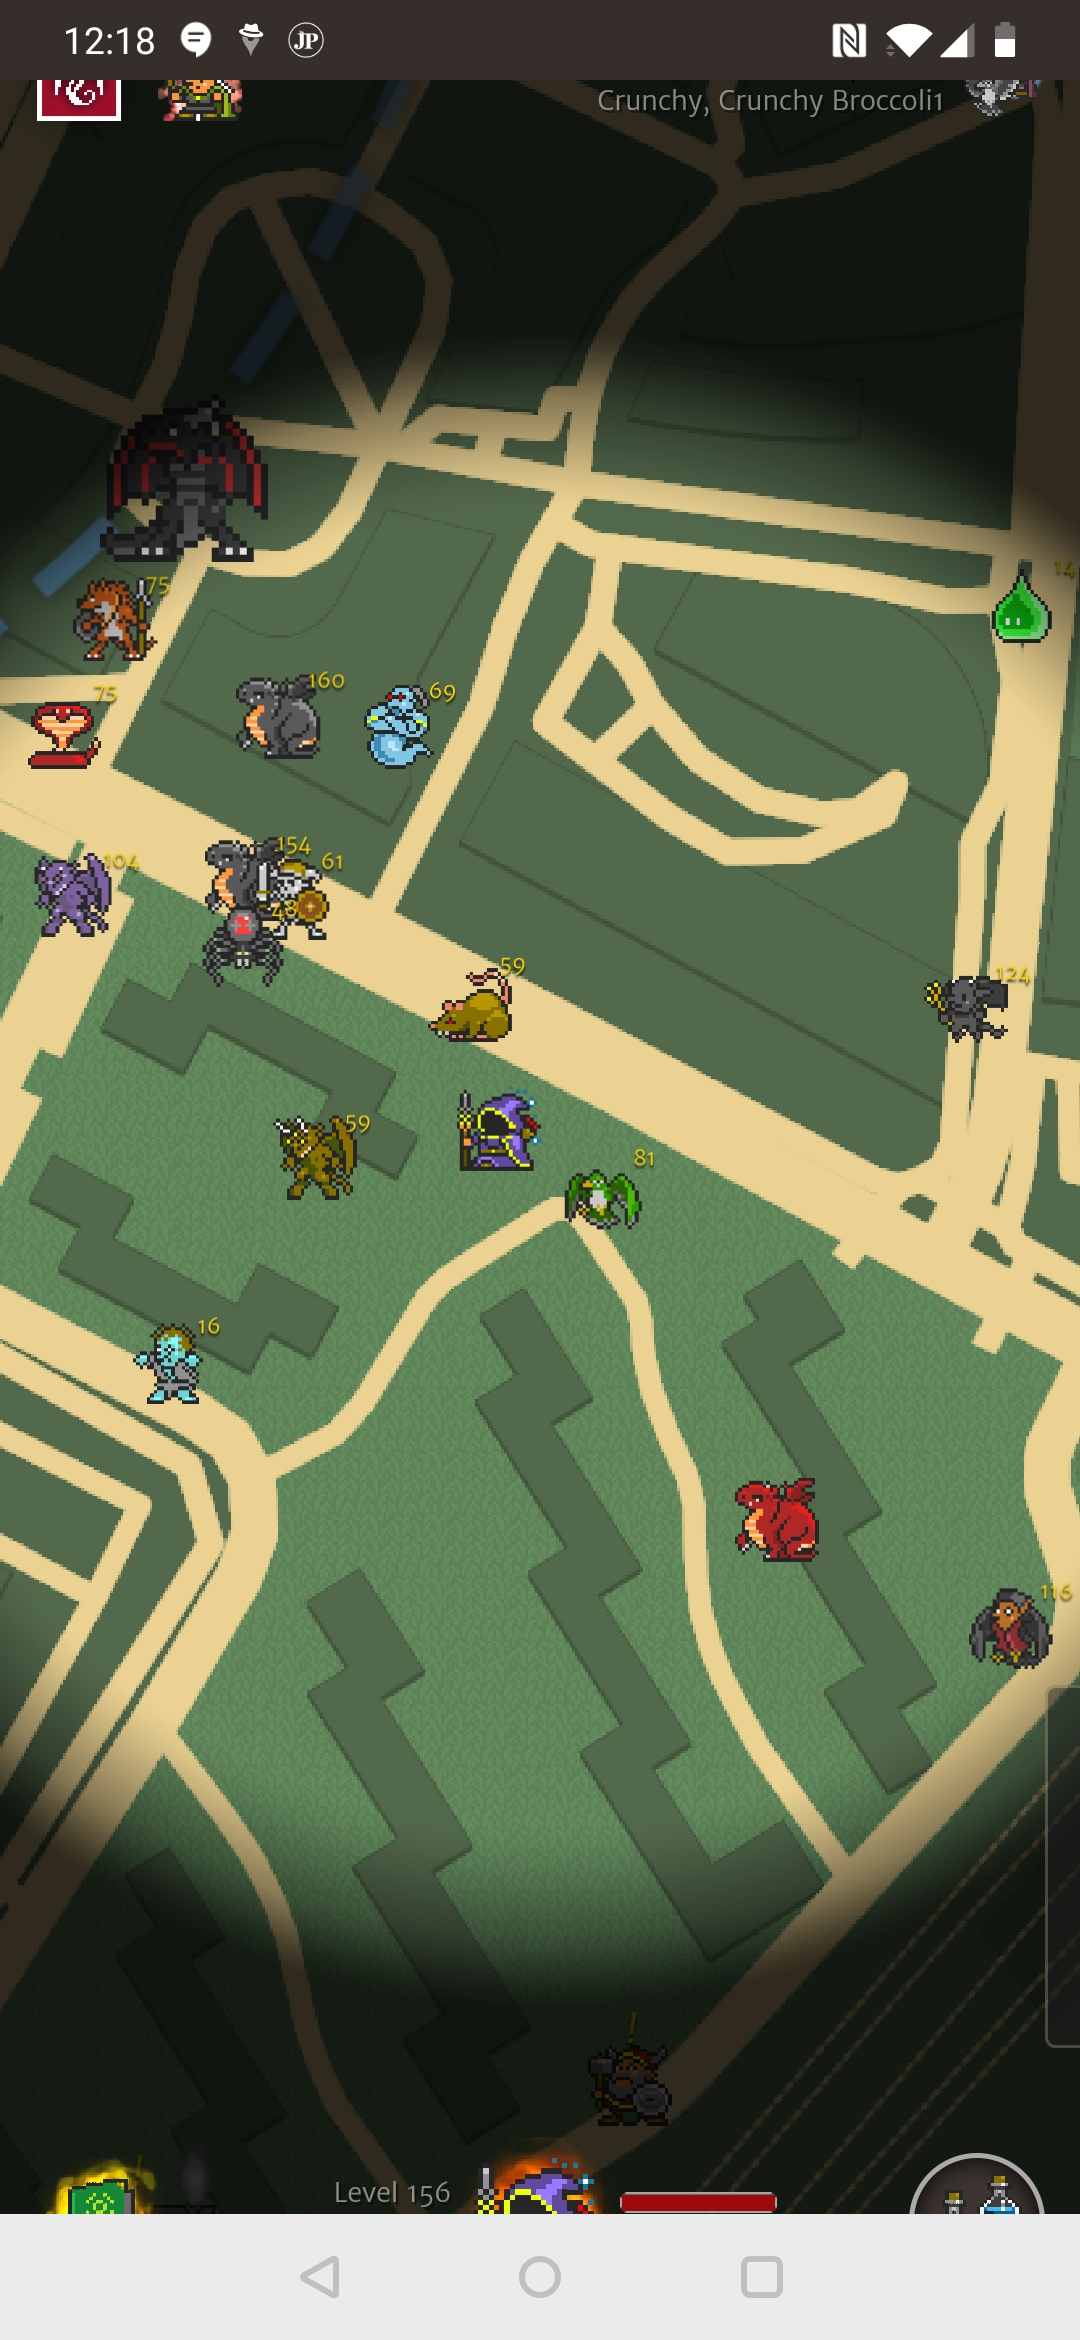monster: (12, 837, 150, 958), (960, 1569, 1080, 1692), (263, 1092, 384, 1213), (129, 1296, 232, 1434), (229, 654, 343, 761), (550, 1140, 677, 1234), (432, 940, 532, 1054), (367, 671, 474, 768), (67, 568, 170, 668), (977, 554, 1077, 654), (919, 961, 1043, 1040), (198, 899, 298, 996)
player: (450, 1089, 553, 1185)
